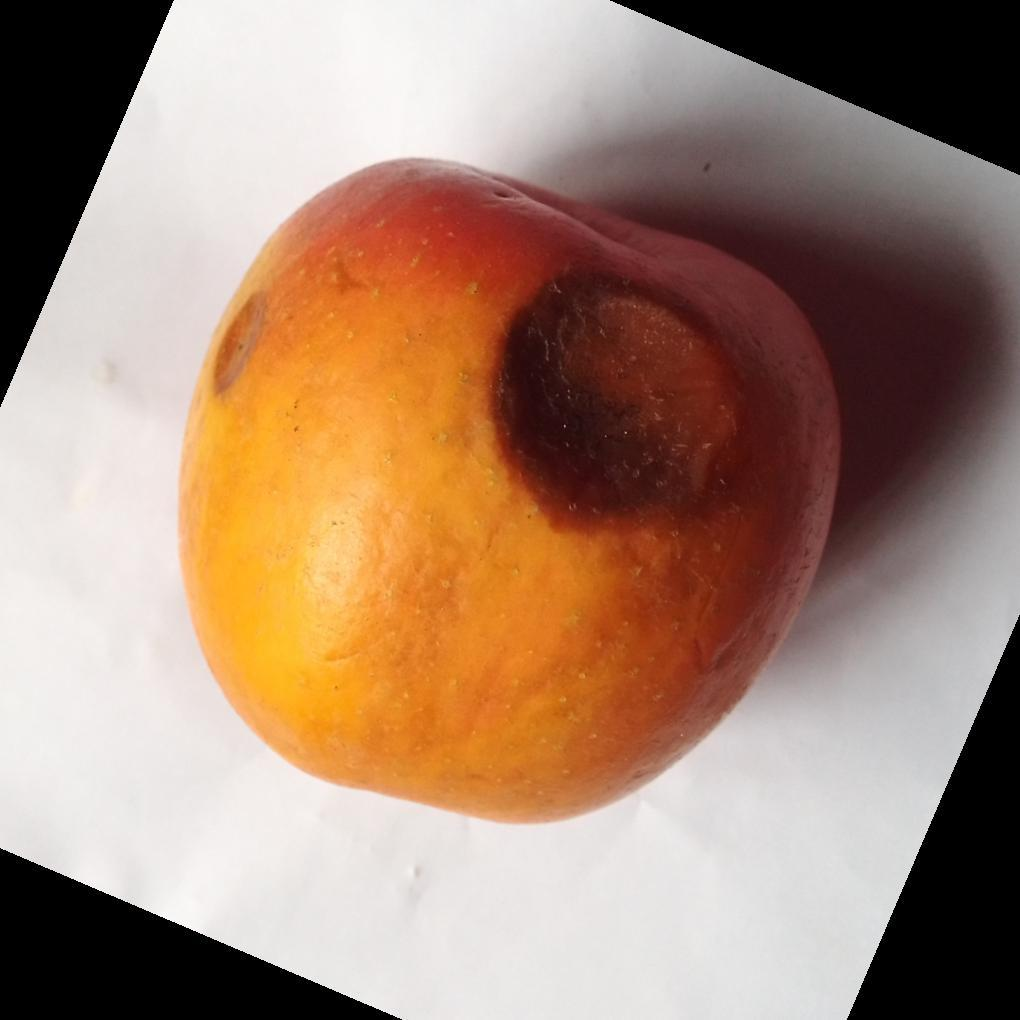FreshOrange: (175, 160, 844, 830)
